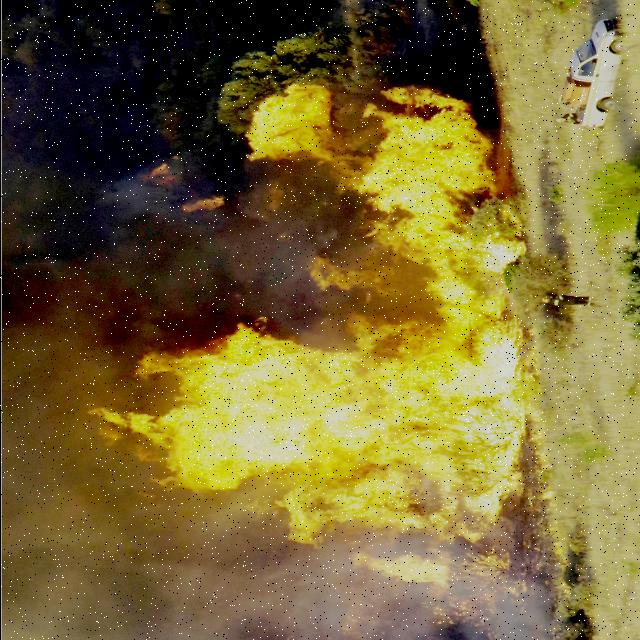api: (162, 338, 542, 492), (379, 107, 506, 265), (292, 487, 506, 540), (251, 82, 333, 156), (429, 276, 508, 339), (355, 551, 452, 591), (377, 88, 475, 109), (105, 410, 161, 444), (336, 163, 384, 201), (306, 266, 374, 290), (141, 355, 173, 375)
asap: (1, 489, 292, 640), (478, 578, 566, 640)
